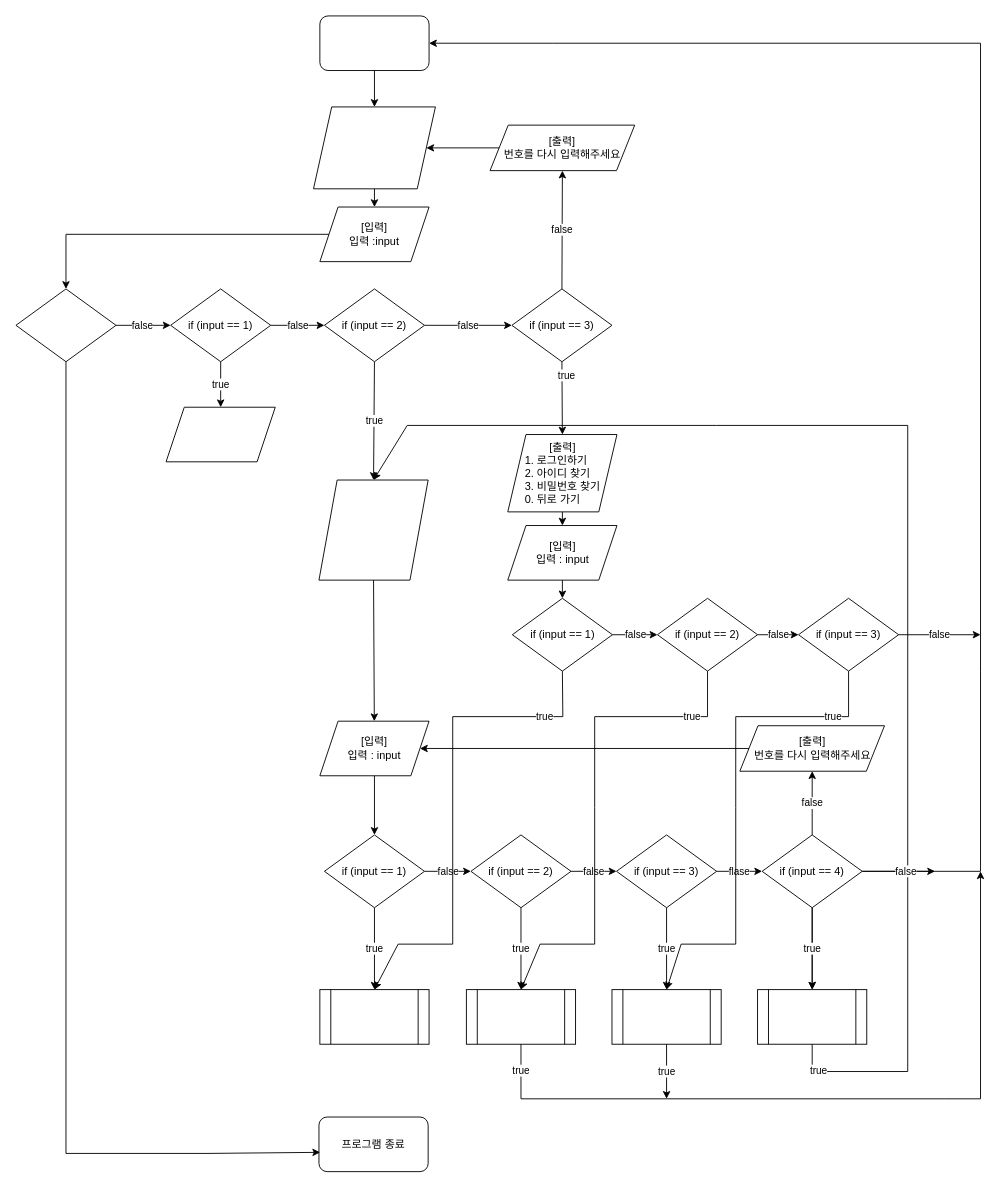
This 1004x1188 diagram has some shape labels left out. Each missing label, with the centre of its shape:
"[출력] 1. 로그인하기 2. 아이디 찾기 3. 비밀번호 찾기 4. 회원 가입하기 0. 뒤로 가기" belongs at pixel 373 529.
"[출력] 1. 비회원 로그인 2. 회원 로그인 3. 관리자 로그인 0. 프로그램 종료" belongs at pixel 374 147.
"[출력] 비회원 로그인 화면" belongs at pixel 220 434.
"if (input == 0)" belongs at pixel 65 325.
"로그인 메소드" belongs at pixel 374 1016.
"비밀번호 찾기 메소드" belongs at pixel 666 1016.
"시작 화면" belongs at pixel 374 43.
"아이디 찾기 메소드" belongs at pixel 520 1016.
"회원 가입 메소드" belongs at pixel 812 1016.
